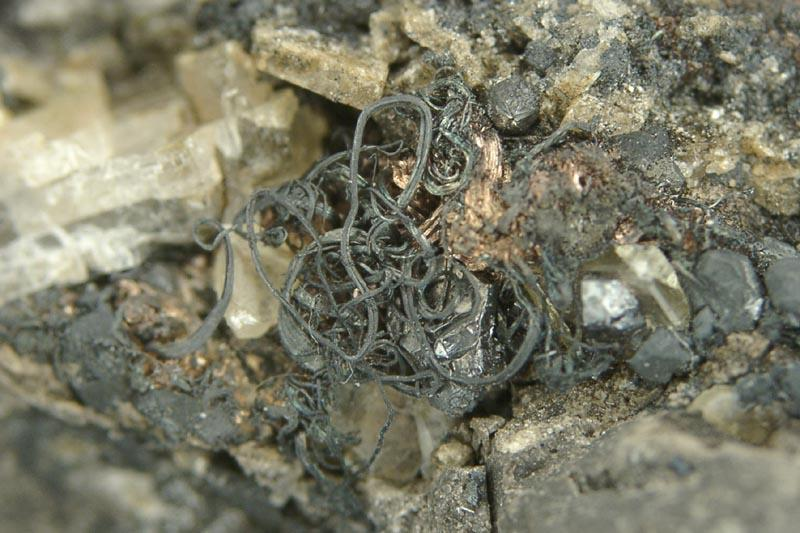silver: (433, 129, 537, 274), (495, 372, 657, 453), (113, 255, 211, 354), (175, 345, 219, 390)
